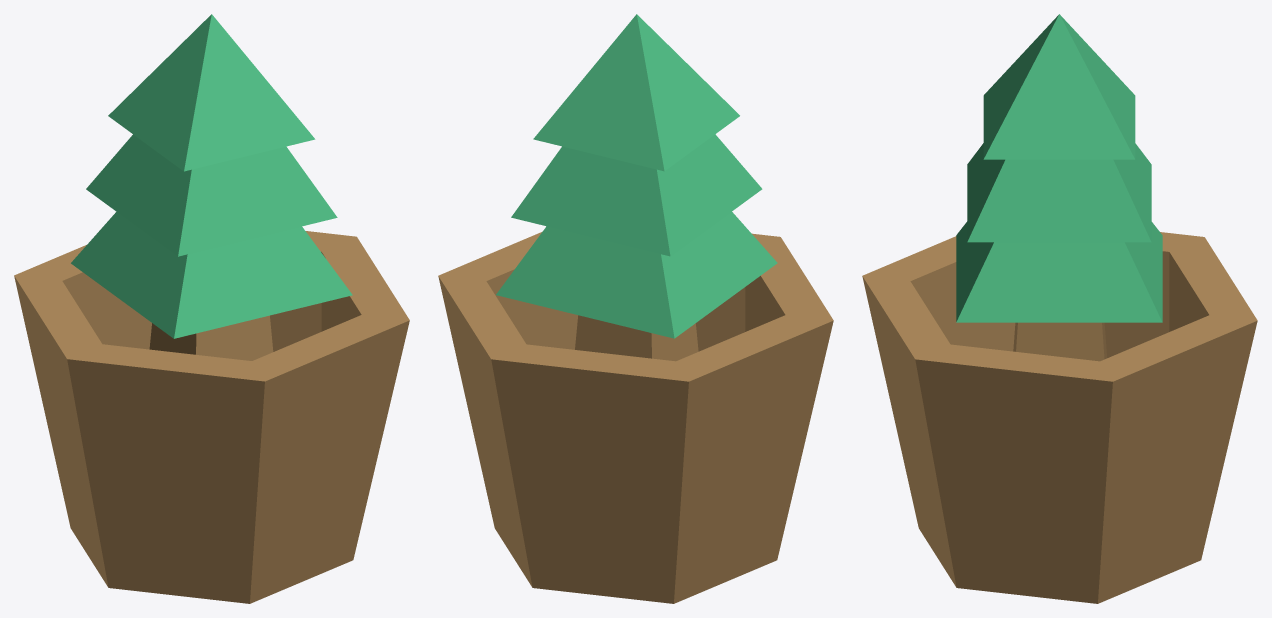
Rendered from plantSmall1.glb.
The picture shows the model from 3 angles, left to right: view 1: azimuth 30°, elevation 25°; view 2: azimuth 150°, elevation 25°; view 3: azimuth 270°, elevation 25°; orthographic projection.
Parts seen in each view (by area): view 1: plantSmall1; view 2: plantSmall1; view 3: plantSmall1.
Part boxes in pixels (bbox=[...]): plantSmall1: bbox=[14, 14, 409, 603]; plantSmall1: bbox=[438, 14, 833, 603]; plantSmall1: bbox=[862, 14, 1257, 603].
Bounding box in the file's own units: 0.1893 × 0.28 × 0.1893.
